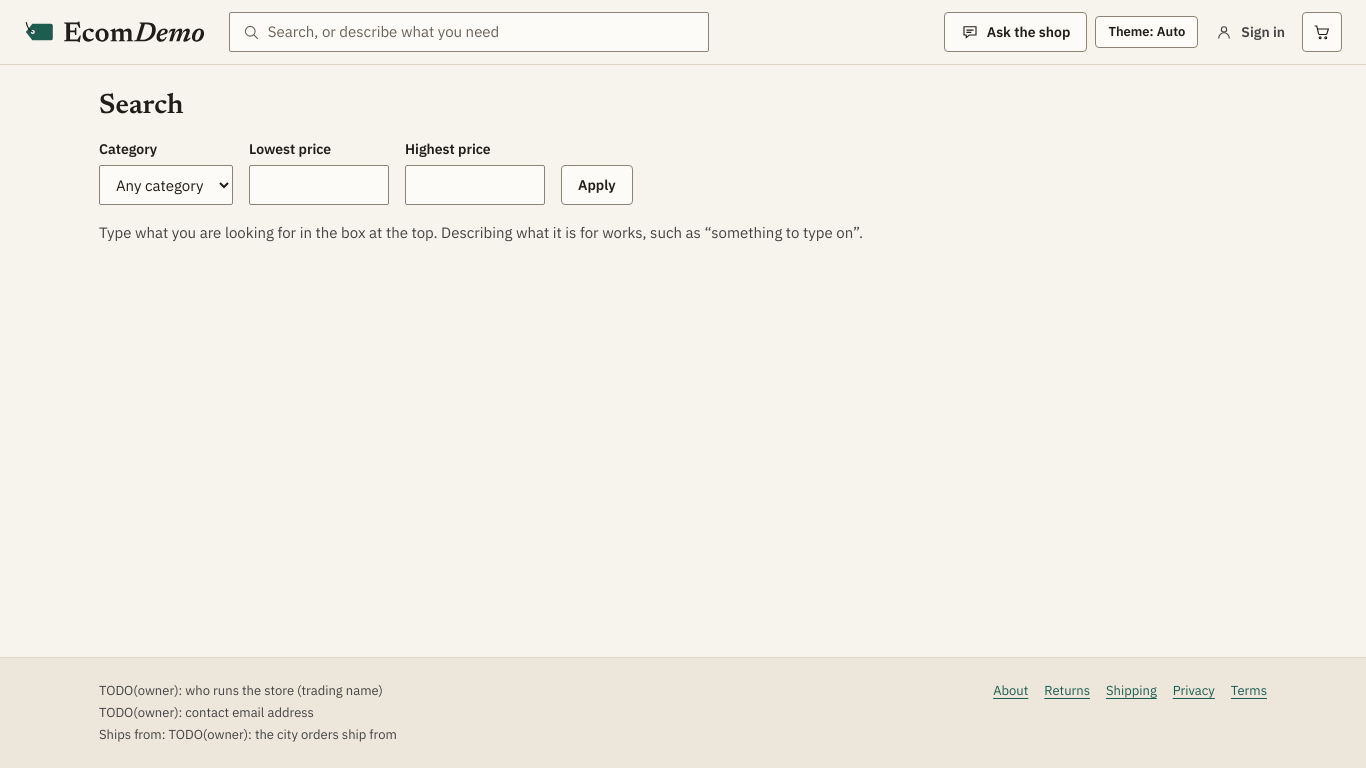
it: layout › the footer link "About" opens the About page
Expected: the heading "Search" is shown, [99,92,184,120]
Click the link "About" at (1011, 690), box [993,682,1028,699]
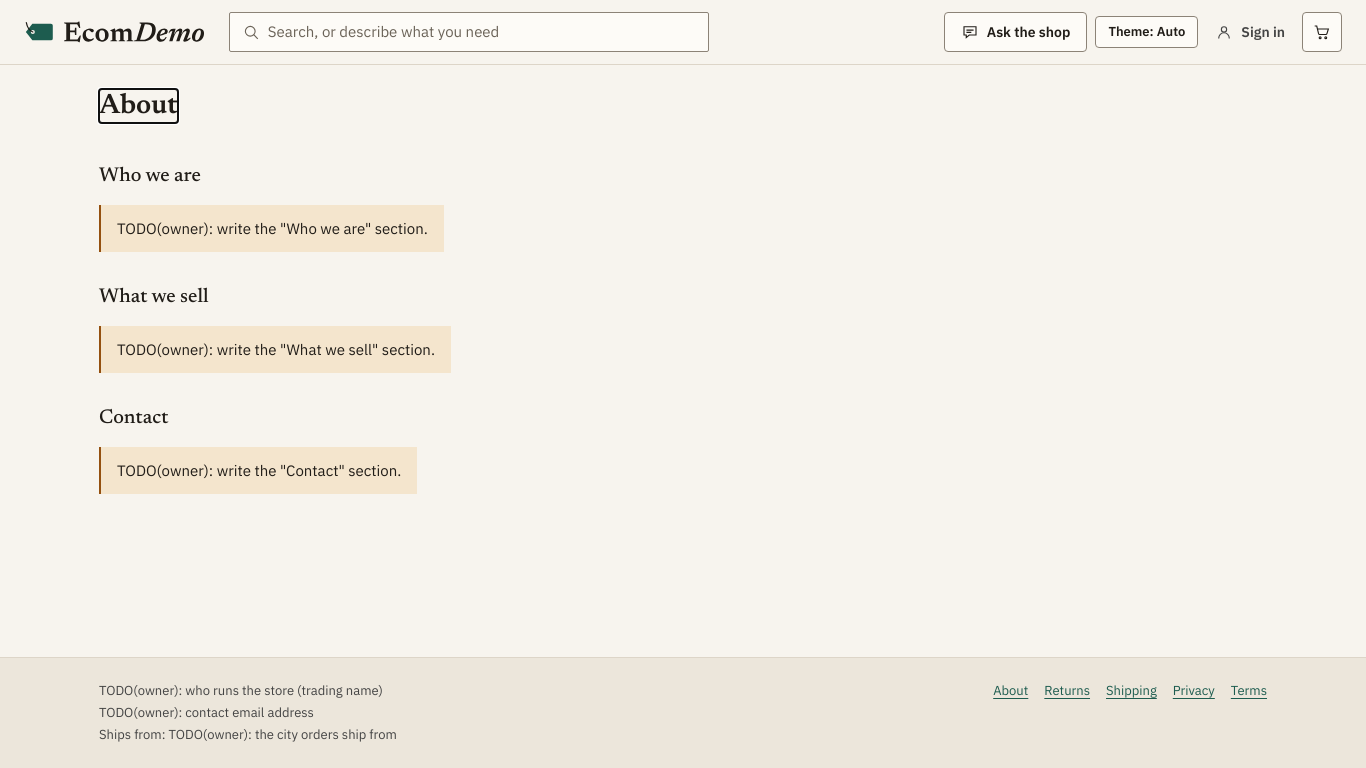
Expected: the heading "About" is shown, [99,89,178,123]
